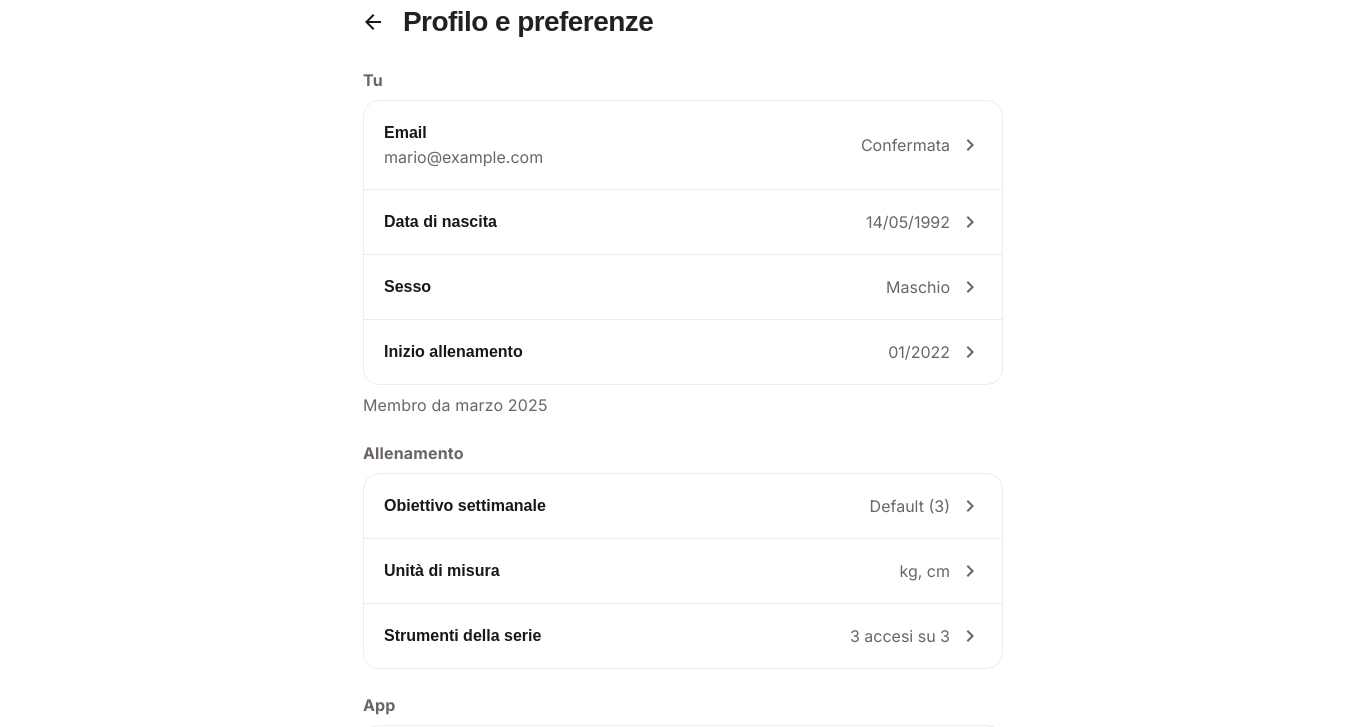
Test: il gruppo «Tu»: le finestre › chiusa la finestra di «Sesso» con «Chiudi» il fuoco è sulla sua riga e non si è salvato nulla
Click the button "Sesso Maschio" at (408, 286), box [364, 255, 1002, 319]
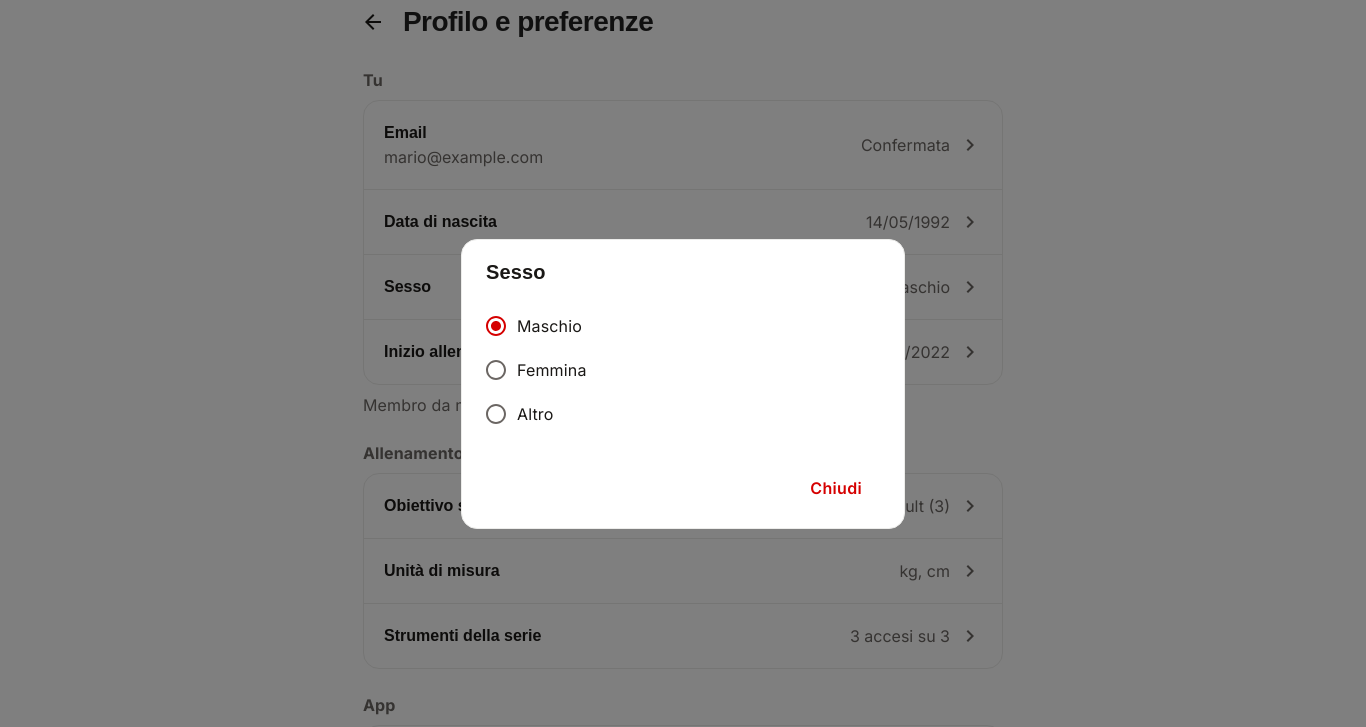
Click the button "Chiudi" at (836, 488), box [792, 464, 880, 512]
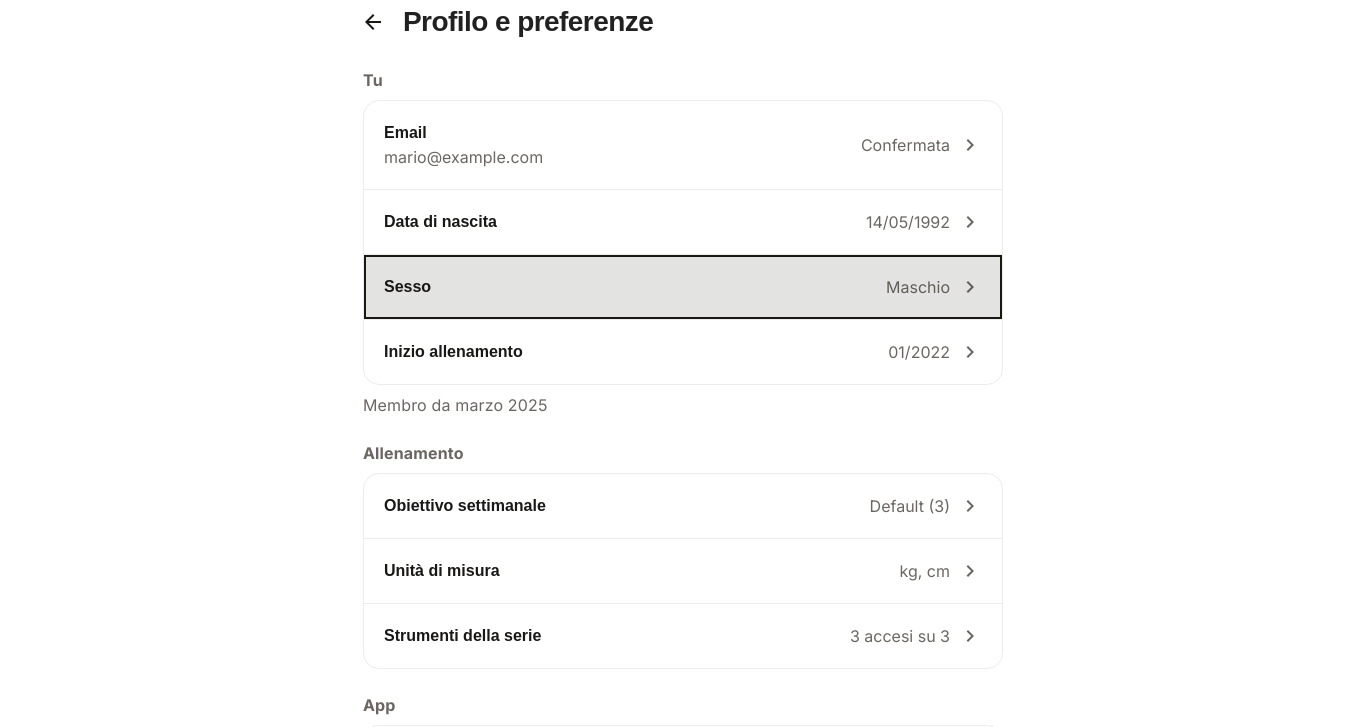
Result: the dialog is gone
